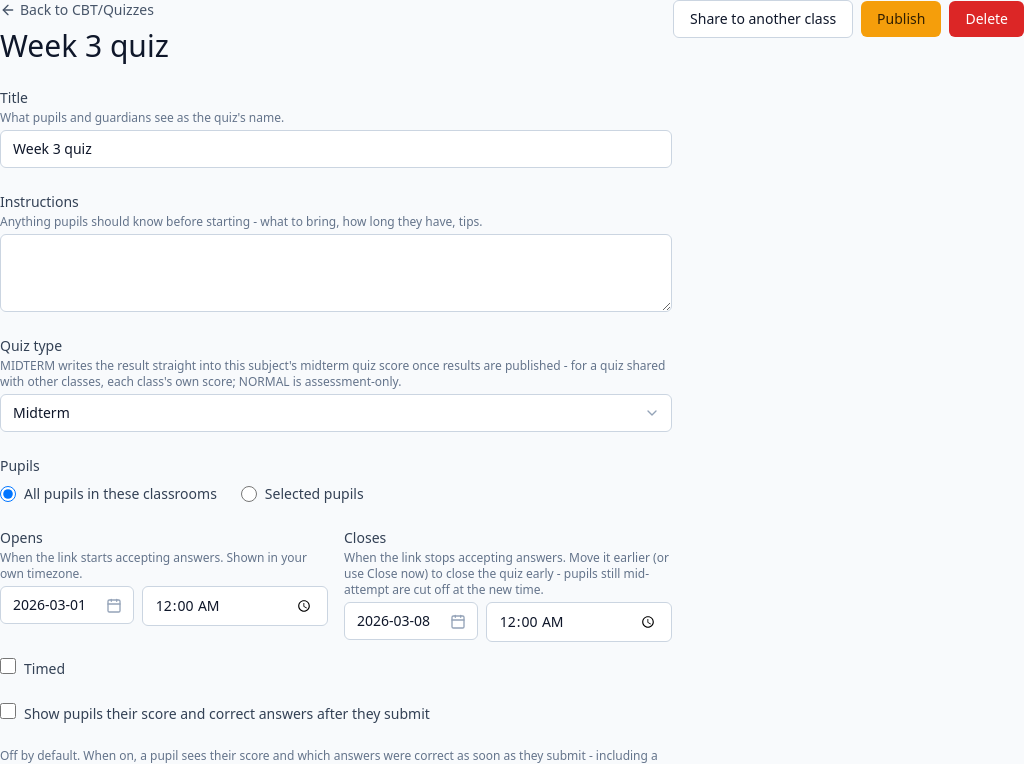
Test: TakeHomeQuizEditorPage - sharing a copy with another class › lets a Midterm quiz go to several classrooms, under a subject that takes a midterm score
This screenshot has width=1024, height=764.
Click the button "Share to another class" at (763,19), box [673,0,853,38]
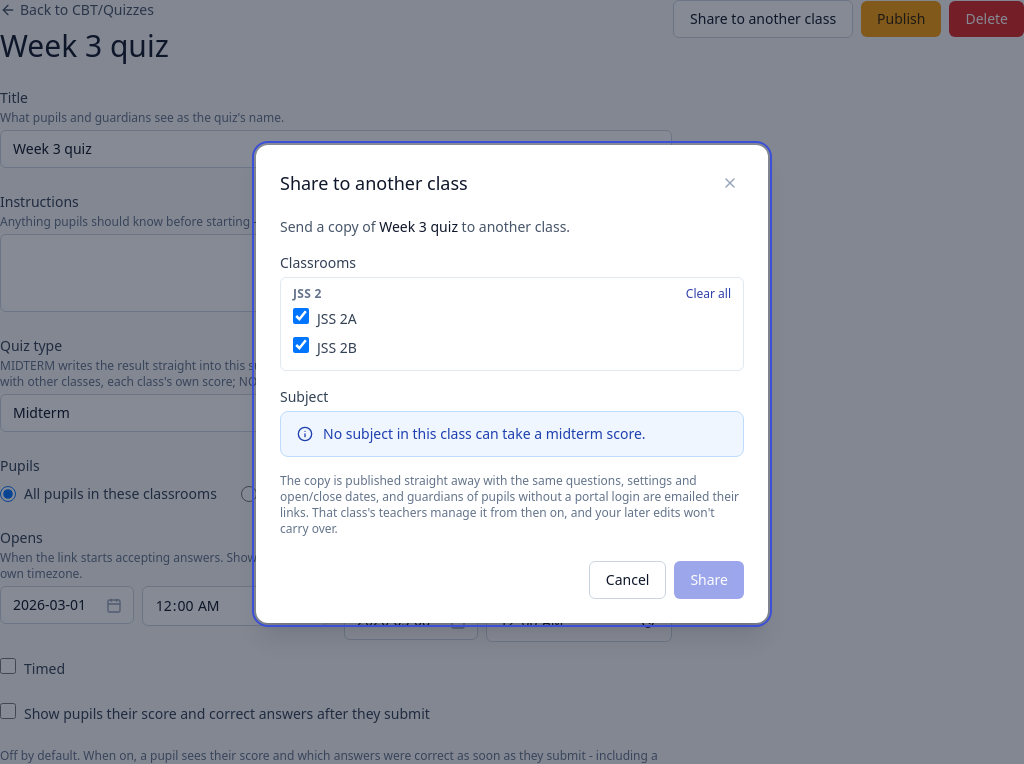
Expected: the checkbox labelled "JSS 2A" is checked, [293,308,309,324]
Expected: the checkbox labelled "JSS 2B" is checked, [293,337,309,353]
Expected: the text "No subject in this class can take a midterm score." is shown, [323,424,646,444]
